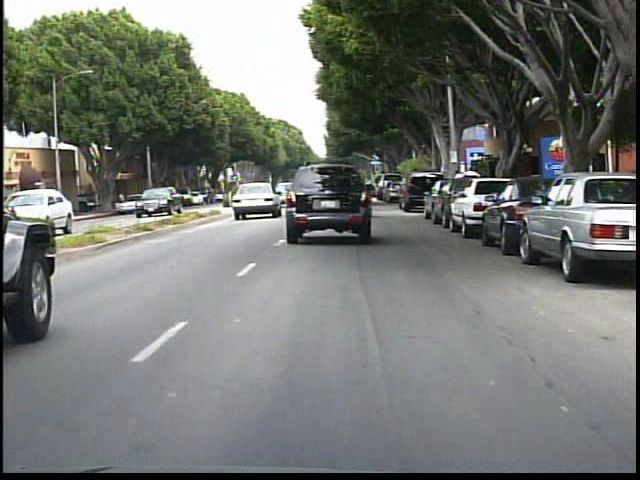person: (463, 166, 480, 205), (449, 167, 465, 203), (116, 188, 131, 212)
